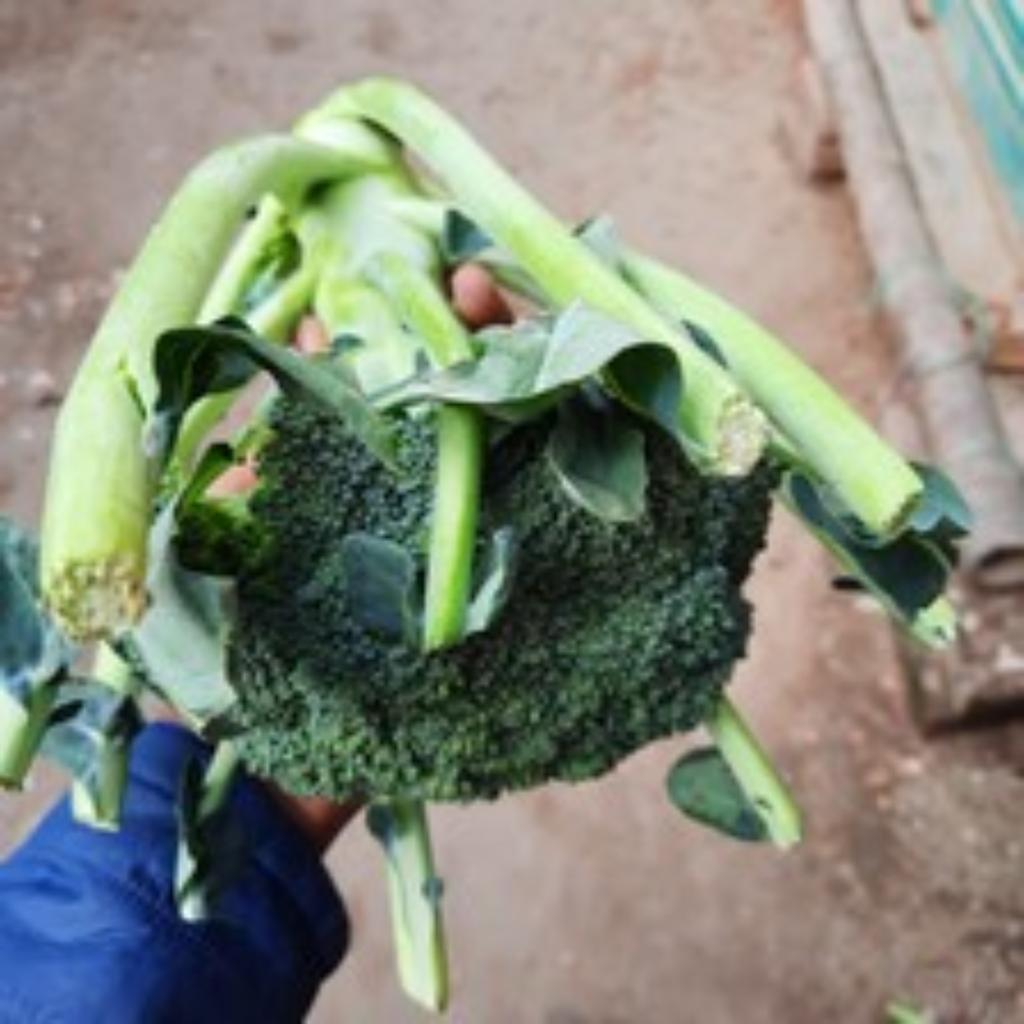Broccoli: (236, 407, 773, 799), (238, 405, 771, 799)
